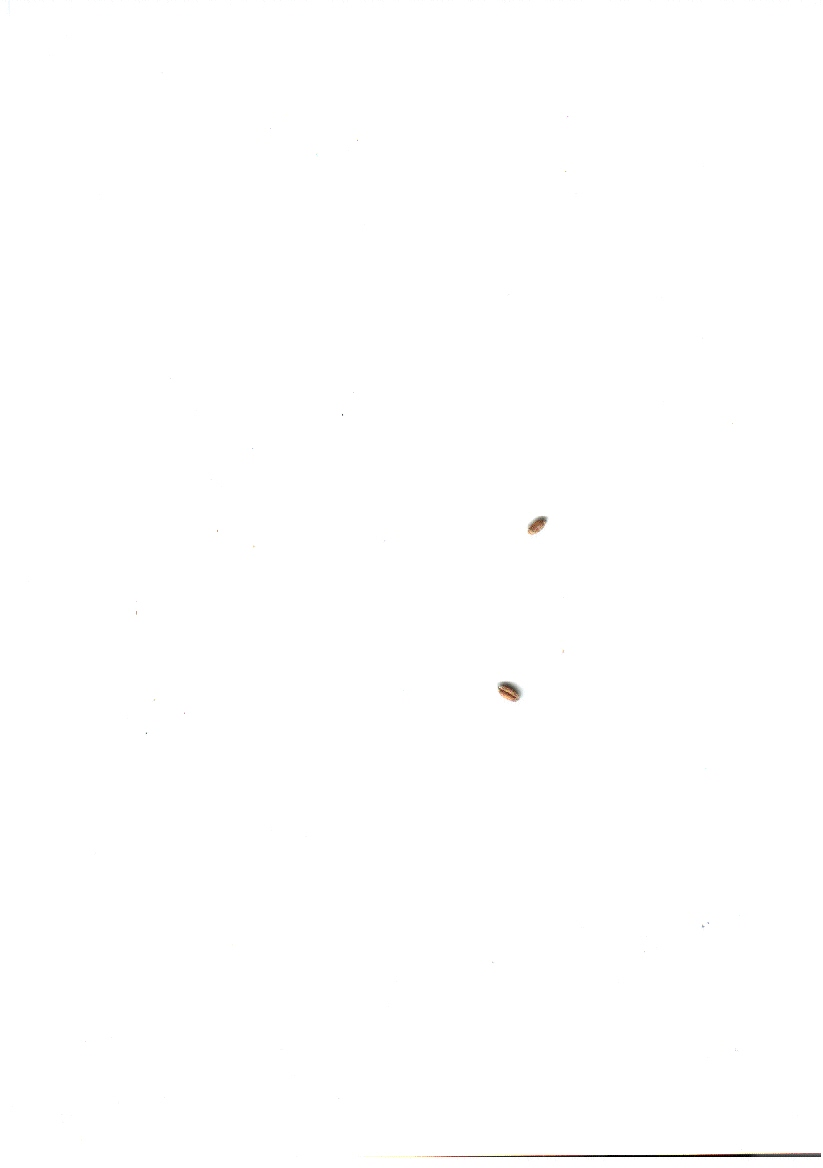grains: (484, 667, 536, 717), (516, 504, 562, 550)
